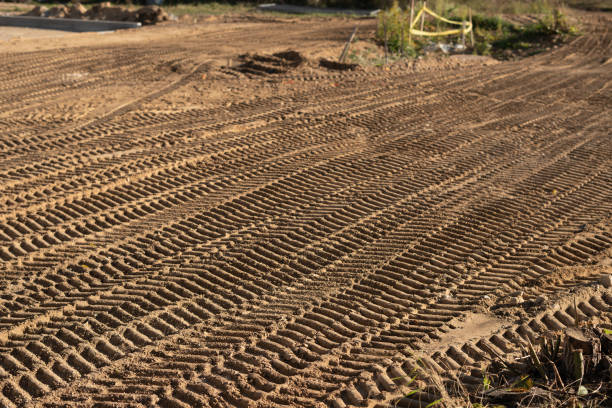vehicle_track: (0, 20, 611, 406)
